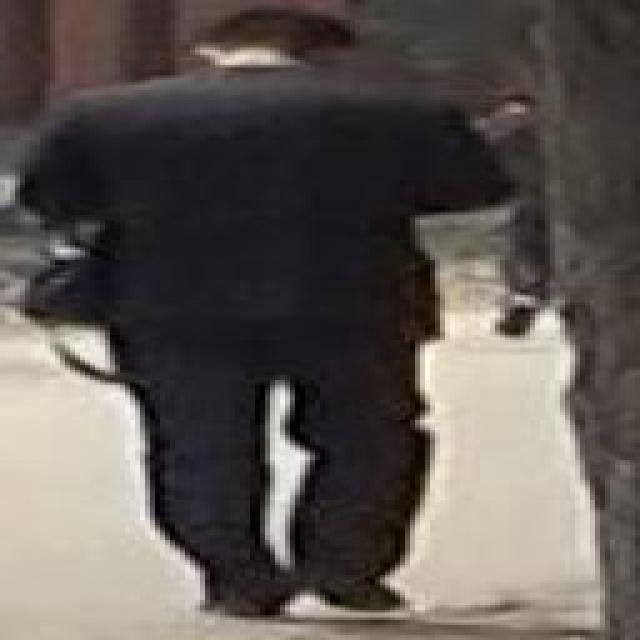adult: (30, 8, 518, 618)
